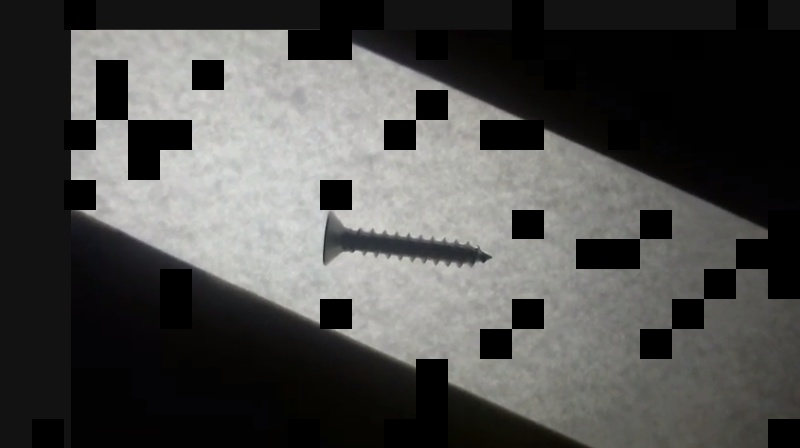S001: (319, 209, 498, 269)
